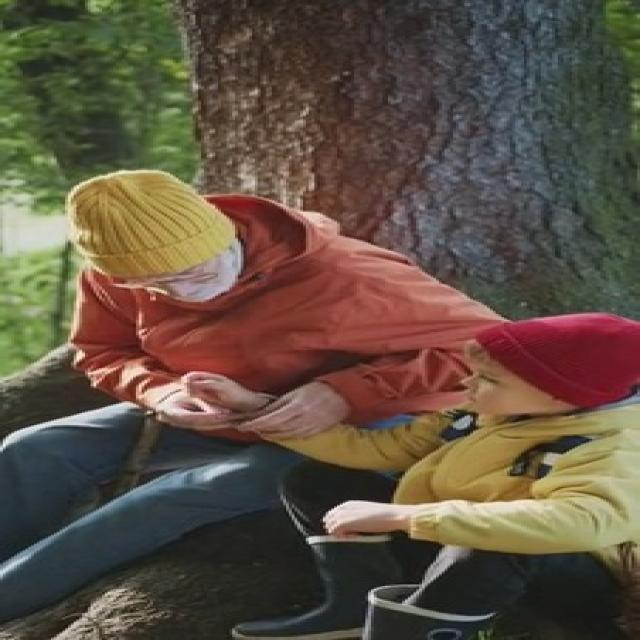Jacket_Wearer: (60, 236, 508, 439)
Person: (66, 168, 490, 544)
